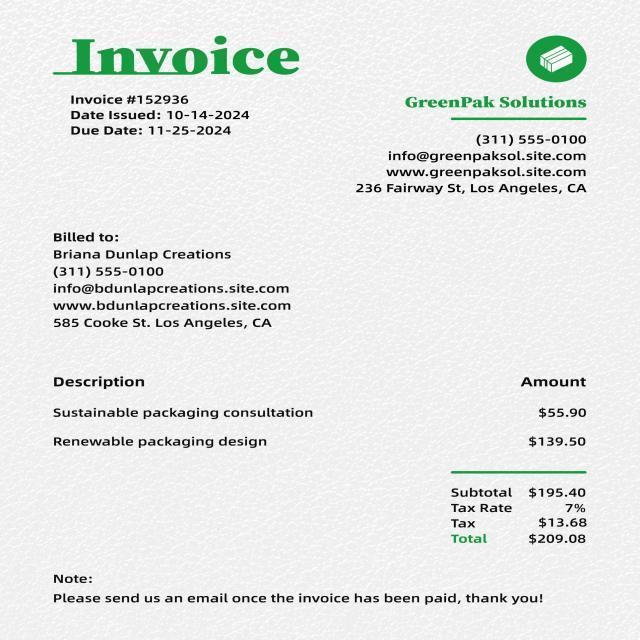paragraph: (42, 371, 606, 458), (49, 224, 307, 349), (47, 568, 550, 625), (353, 131, 600, 226), (66, 89, 262, 158), (53, 31, 311, 83), (447, 474, 600, 560), (391, 89, 598, 125), (507, 24, 599, 86)
